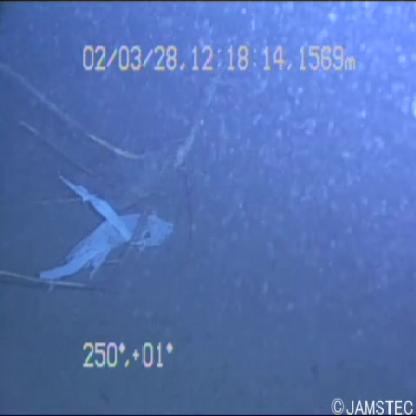Rác: (24, 153, 195, 306)
